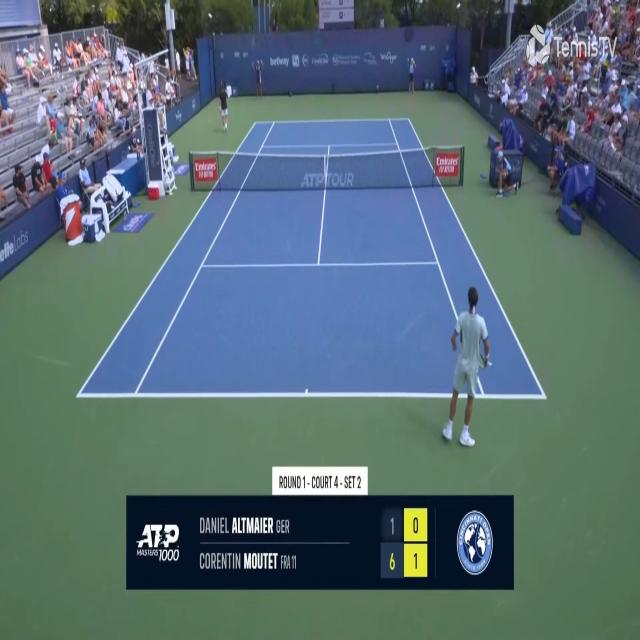tennis-player: (441, 272, 493, 453), (215, 80, 233, 132)
